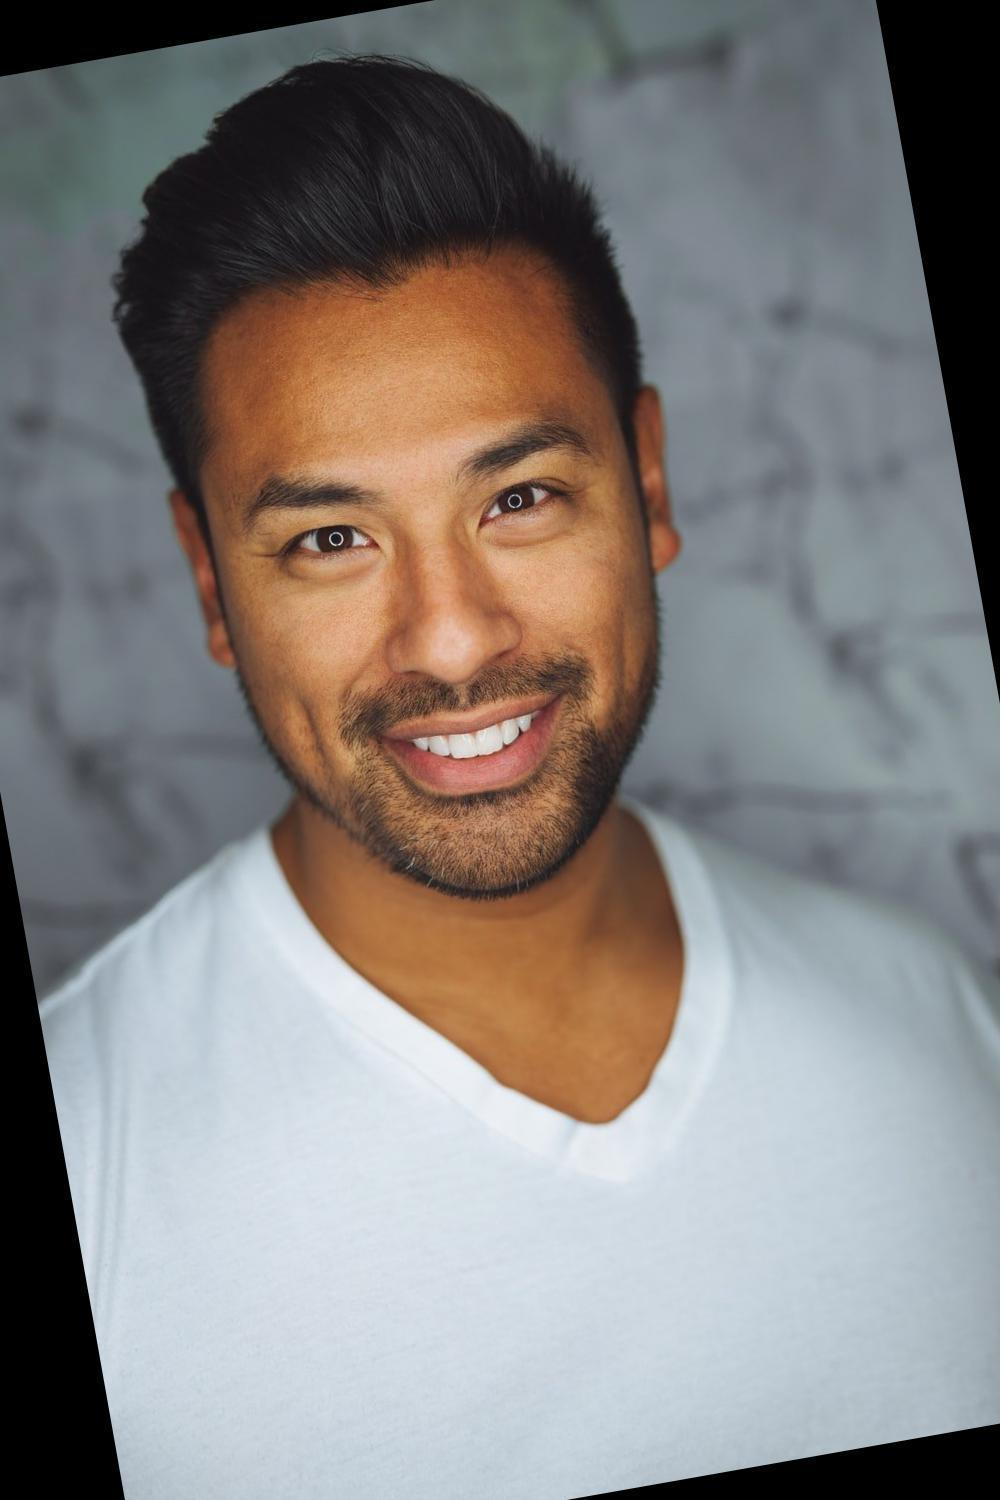Sober: (248, 281, 632, 863)
